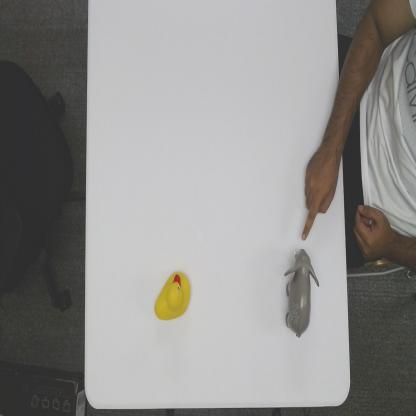Arm: (321, 84, 343, 160)
Duck: (153, 270, 192, 321)
Elephant: (284, 247, 318, 341)
Hand: (301, 144, 340, 242)
